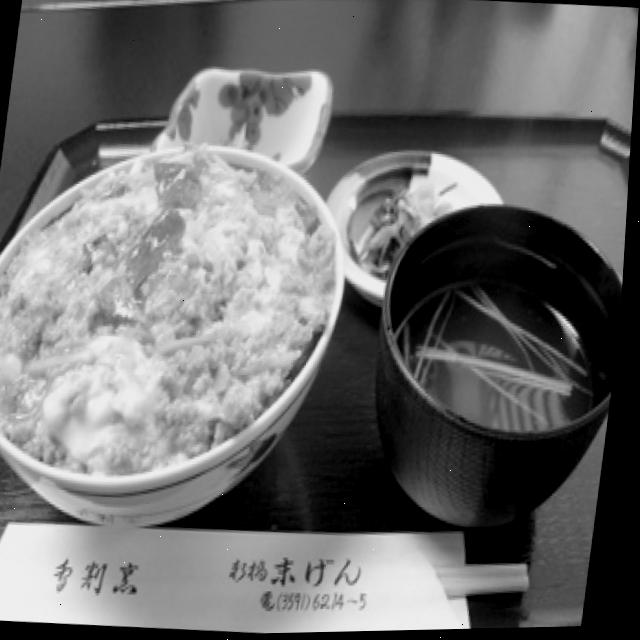米饭主食: (0, 119, 366, 548)
